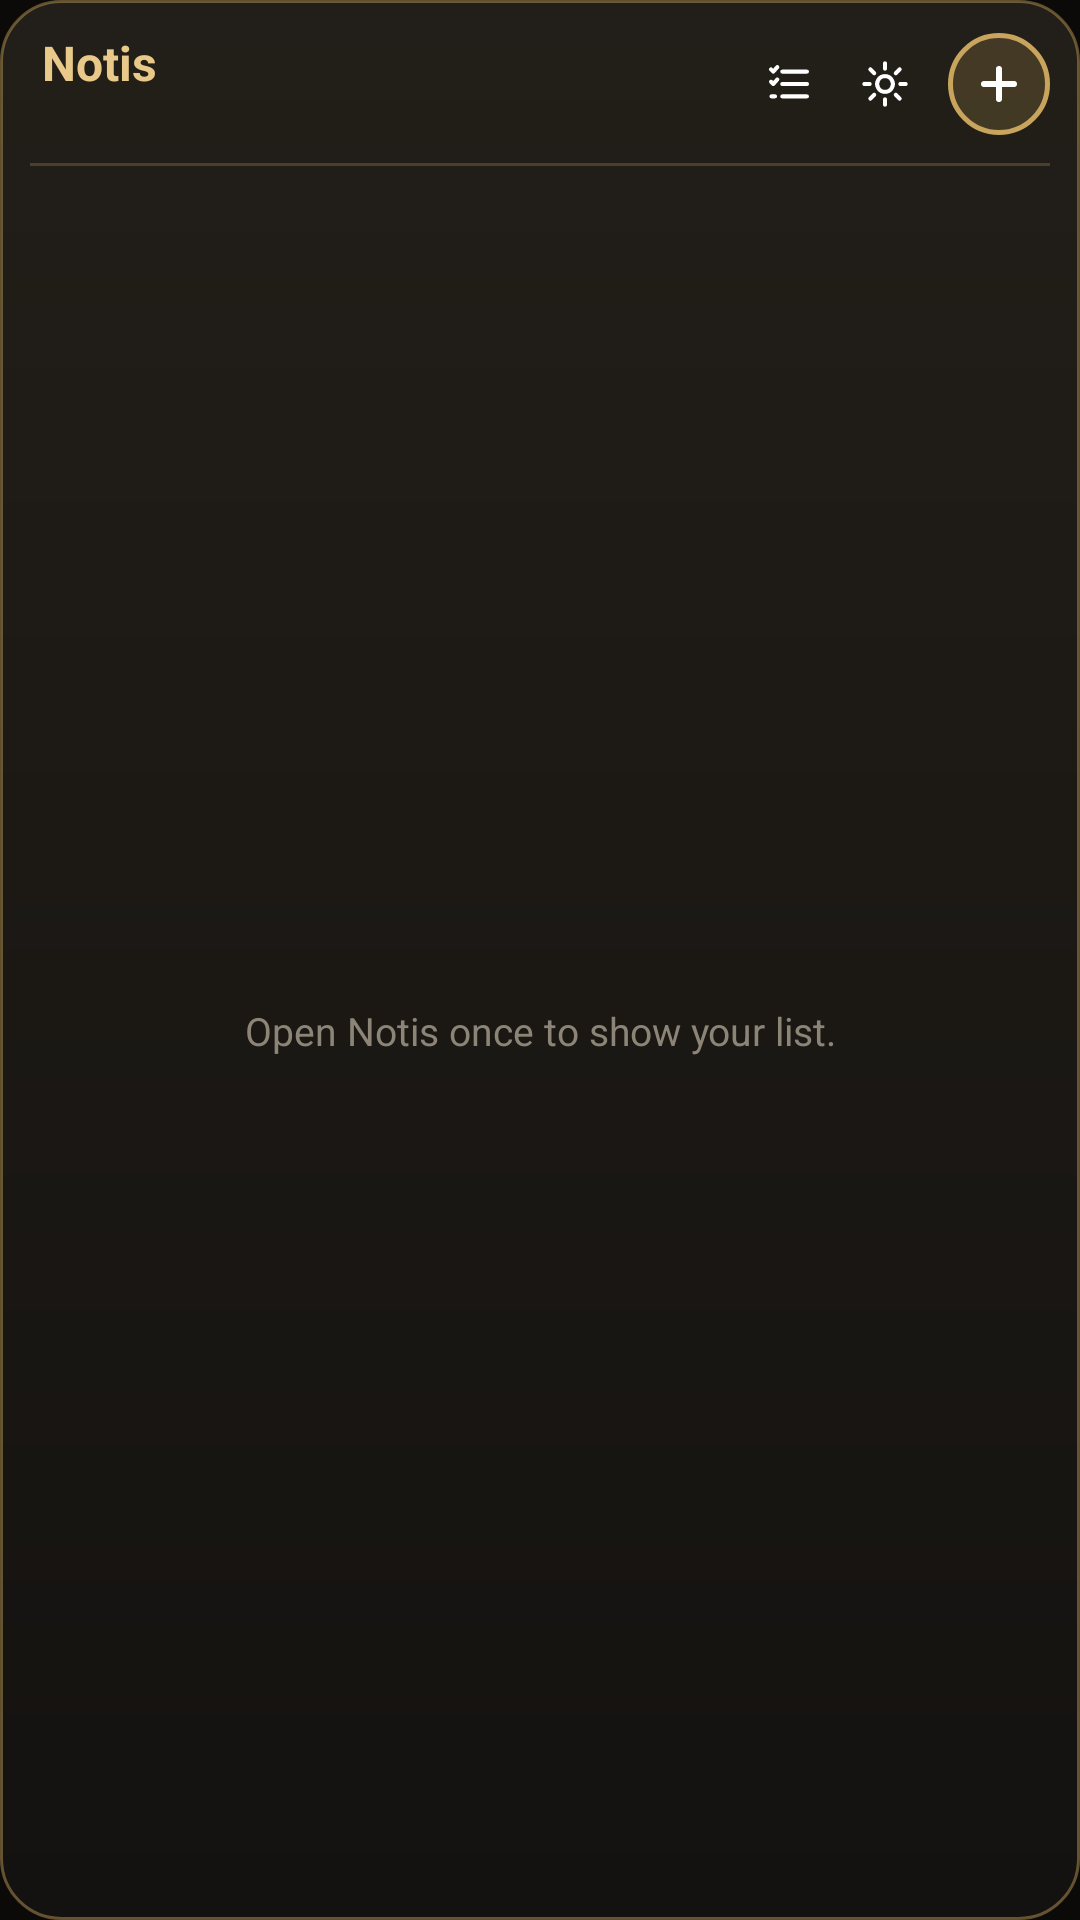

Icons on this 1080 x 1920 Android screen, each with its box as (x1,y1,x2,y2):
Add: (948,33,1050,135)
Choose list: (769,65,809,99)
